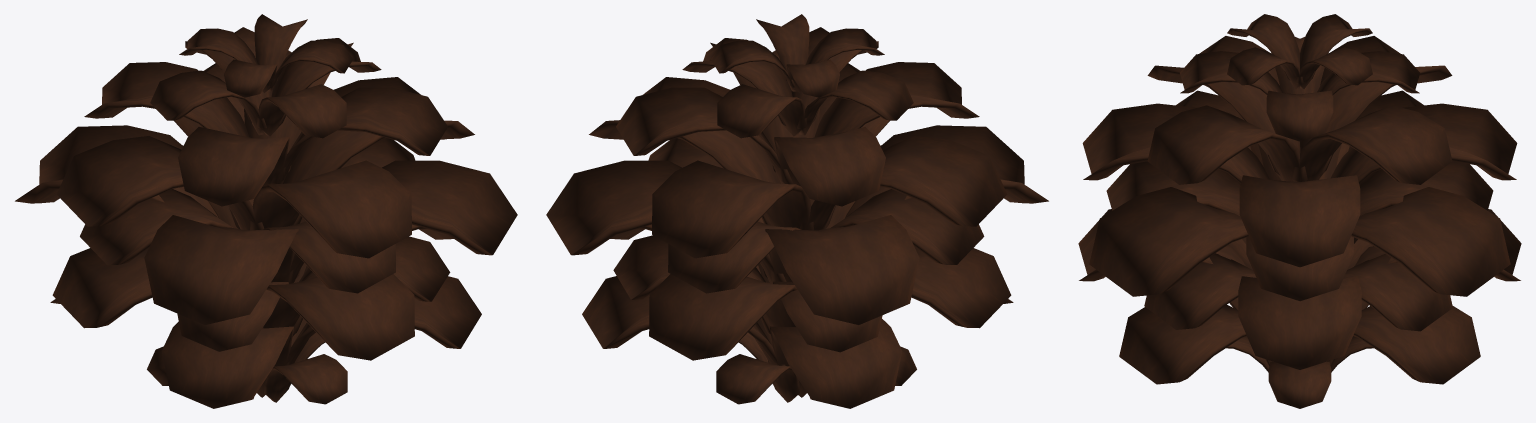
The model's file is Pinha.fbx.
3 views of the same model, side by side, from view 1: azimuth 30°, elevation 25°; view 2: azimuth 150°, elevation 25°; view 3: azimuth 270°, elevation 25° (orthographic).
Visible parts, largest first — view 1: Pinha; view 2: Pinha; view 3: Pinha.
Boxes of the visible parts, bbox=[...] form: Pinha: bbox=[15, 14, 517, 408]; Pinha: bbox=[546, 14, 1048, 408]; Pinha: bbox=[1078, 14, 1521, 408].
Size of the model in its own units: 7.38 by 6.48 by 7.38.
Materials: 1 (1 with a texture image).
